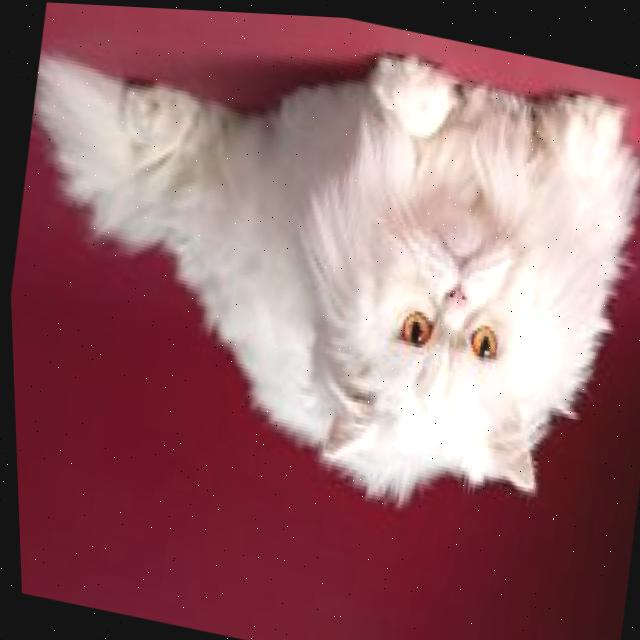Persian: (0, 0, 640, 549)
